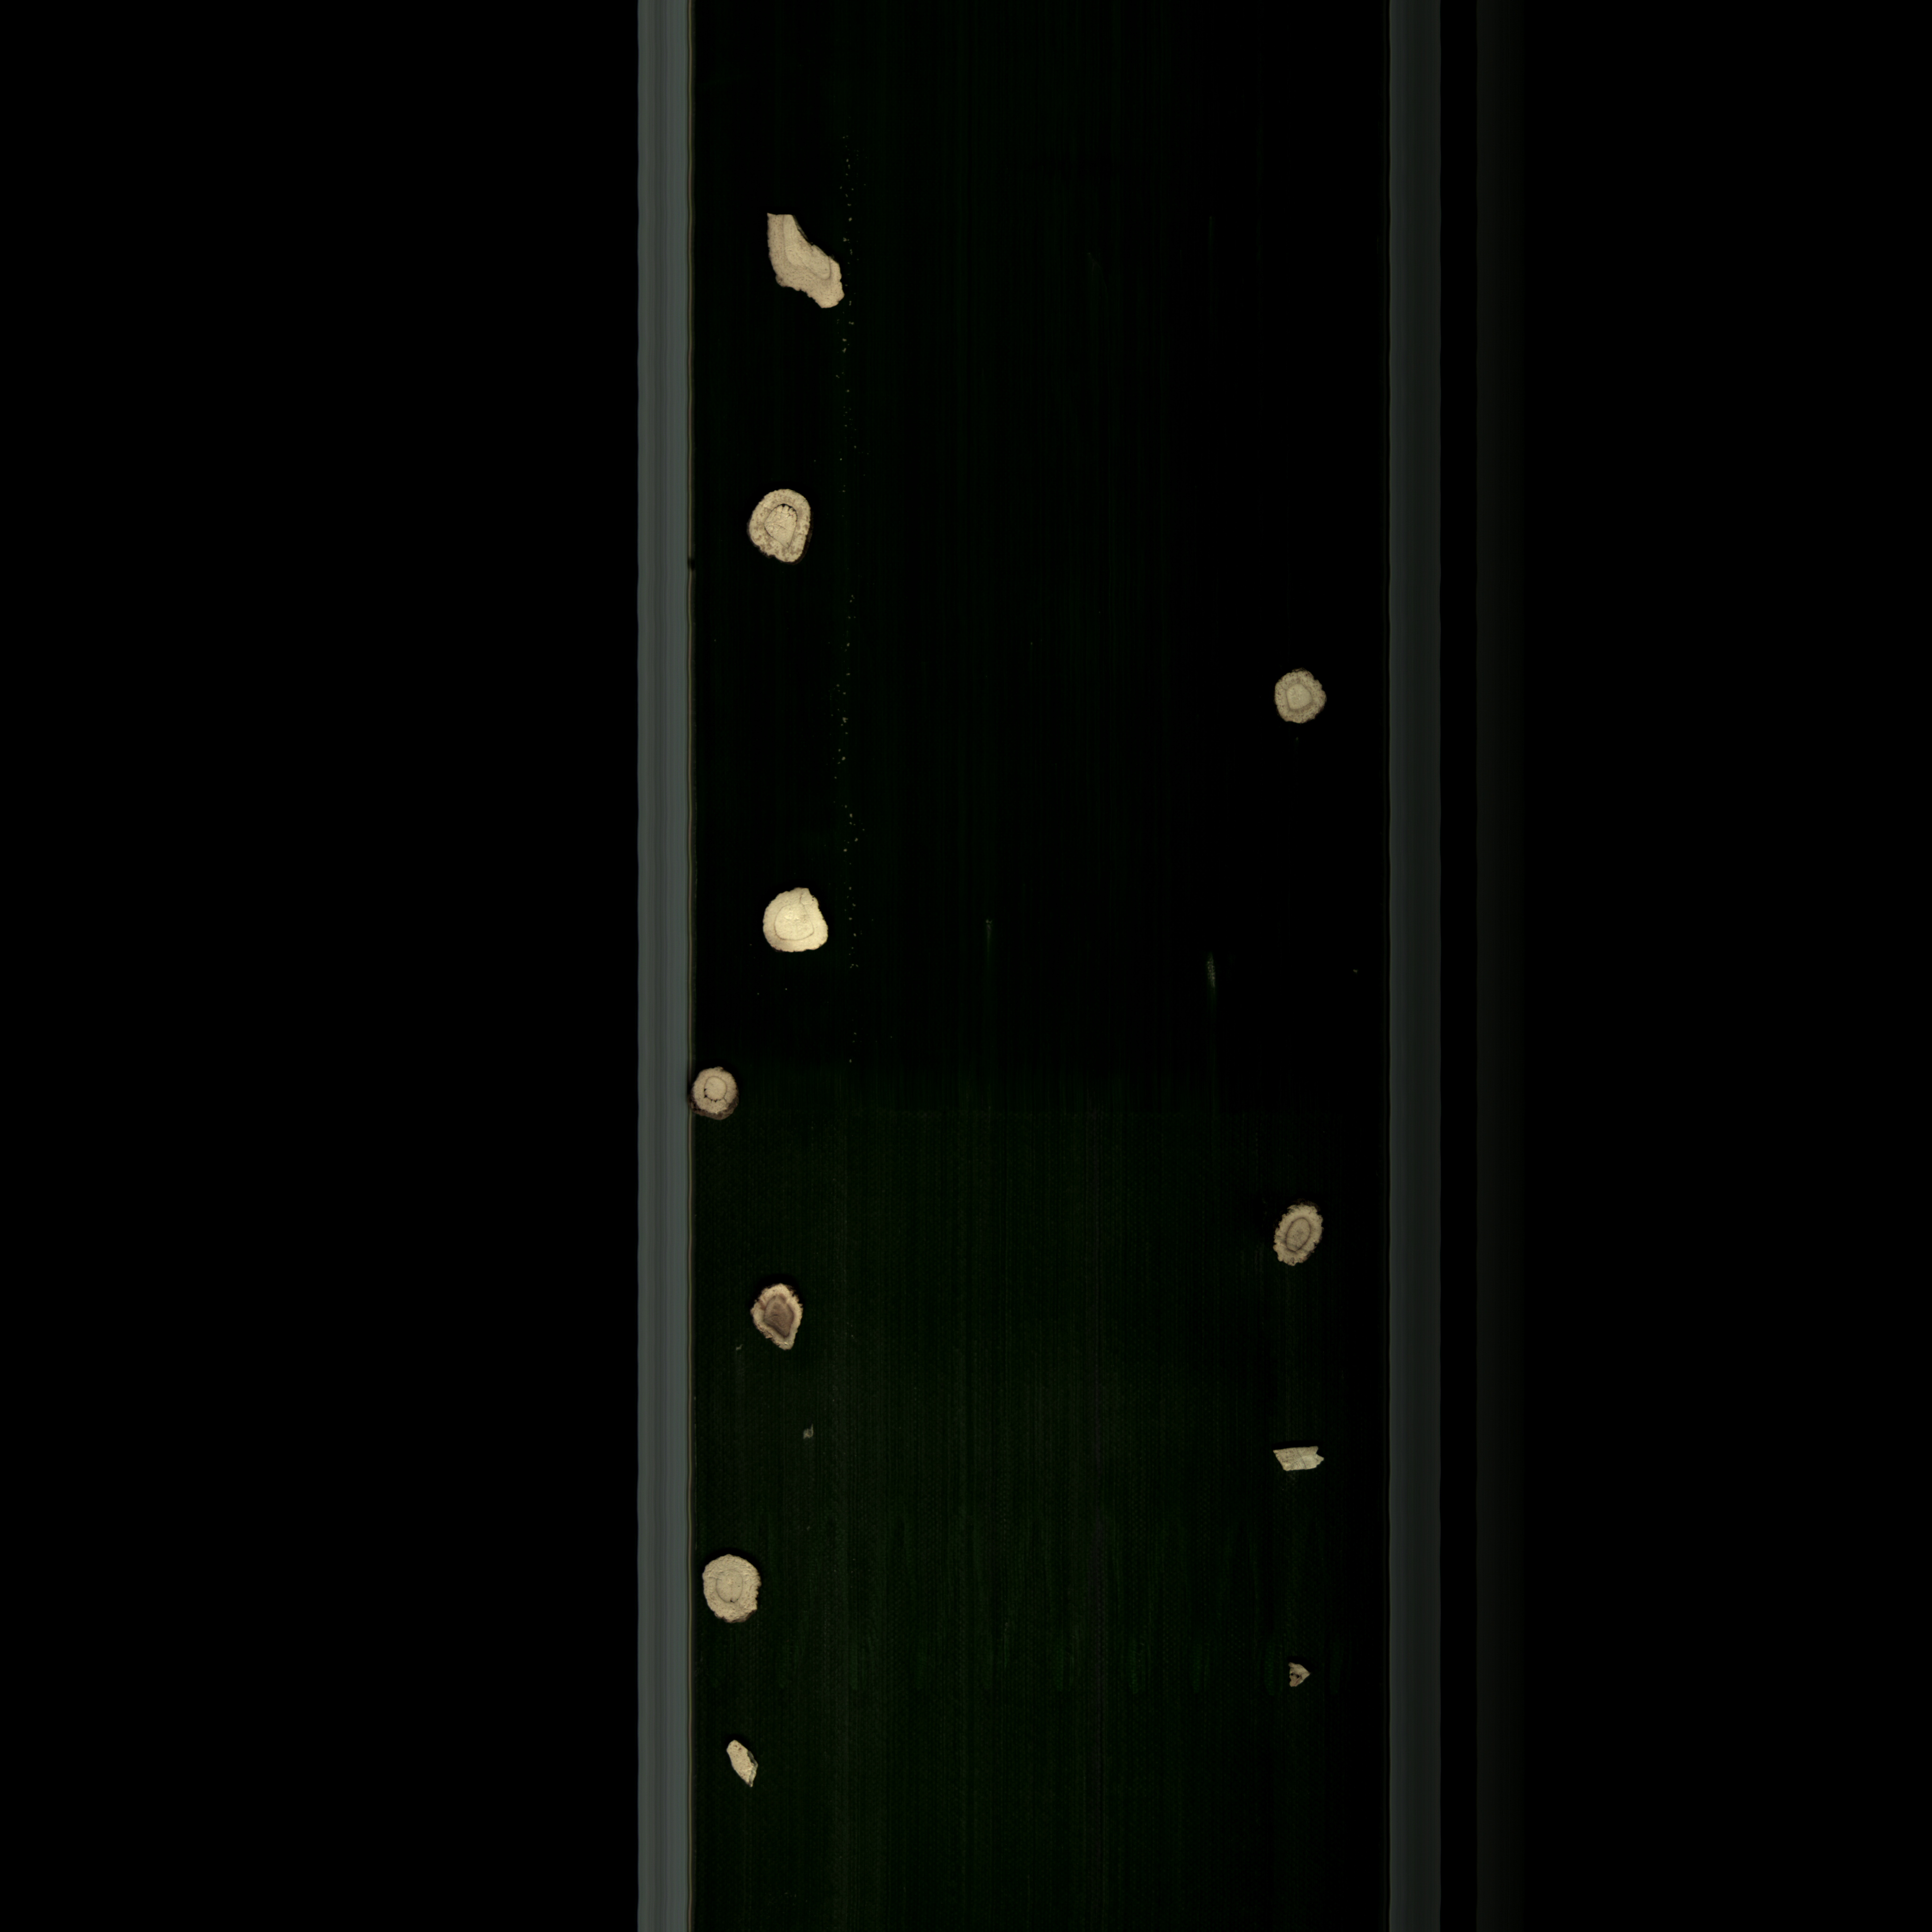debris: (752, 196, 872, 338)
dreg: (1253, 1438, 1353, 1488), (715, 1718, 777, 1798), (1286, 1660, 1323, 1704)
hole: (694, 1049, 755, 1132)
moldy: (743, 1253, 819, 1378), (734, 469, 812, 584), (1258, 1177, 1323, 1295)
